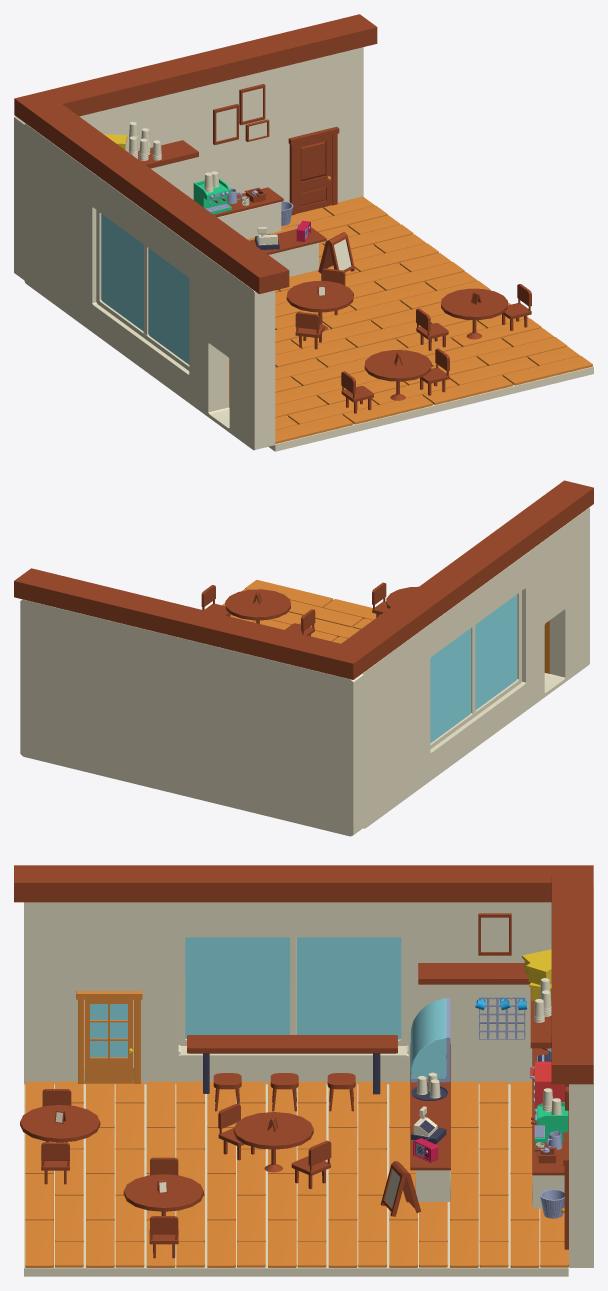
Rendered from SM_Cafe_Scene_v01.fbx.
The picture shows the model from 3 angles, top to bottom: view 1: azimuth 30°, elevation 25°; view 2: azimuth 150°, elevation 25°; view 3: azimuth 270°, elevation 25°; orthographic projection. The views are drawn at different scales.
Visible parts, largest first — view 1: SM_Main_Platform, G_Window_Glass, INT_Bedroom_Door, SM_Barista_Table_001, SM_Round_Table_001, SM_Round_Table, SM_Barista_Table, SM_Round_Table_002, SM_Door_Frame, P_Aframe_Menu, P_Painting, P_Painting_001 (+7 smaller); view 2: SM_Main_Platform, G_Window_Glass, SM_Round_Table; view 3: SM_Main_Platform, G_Window_Glass, SM_Long_Table, SM_Barista_Table, SM_Wall_Shelf, G_Cake_Display_Glass, INT_Main_Door, SM_Round_Table_002, SM_Round_Table, SM_Round_Table_001, G_Main_Door_Glass, SM_Barista_Table_001 (+17 smaller).
Boxes of the visible parts, left/top/right/bottom form: SM_Main_Platform: left=14, top=14, right=593, bottom=451; G_Window_Glass: left=101, top=213, right=189, bottom=364; INT_Bedroom_Door: left=295, top=135, right=331, bottom=213; SM_Barista_Table_001: left=213, top=187, right=283, bottom=239; SM_Round_Table_001: left=364, top=350, right=431, bottom=400; SM_Round_Table: left=441, top=288, right=507, bottom=339; SM_Barista_Table: left=249, top=227, right=326, bottom=276; SM_Round_Table_002: left=286, top=281, right=353, bottom=331; SM_Door_Frame: left=288, top=126, right=339, bottom=215; P_Aframe_Menu: left=318, top=232, right=354, bottom=273; P_Painting: left=239, top=84, right=265, bottom=125; P_Painting_001: left=213, top=104, right=238, bottom=144; SM_Main_Platform: left=14, top=480, right=593, bottom=836; G_Window_Glass: left=430, top=594, right=517, bottom=743; SM_Round_Table: left=225, top=589, right=290, bottom=623; SM_Main_Platform: left=14, top=865, right=593, bottom=1276; G_Window_Glass: left=185, top=937, right=401, bottom=1039; SM_Long_Table: left=187, top=1035, right=397, bottom=1094; SM_Barista_Table: left=410, top=1043, right=450, bottom=1201; SM_Wall_Shelf: left=418, top=963, right=551, bottom=1048; G_Cake_Display_Glass: left=410, top=998, right=446, bottom=1078; INT_Main_Door: left=84, top=999, right=133, bottom=1083; SM_Round_Table_002: left=233, top=1112, right=313, bottom=1172; SM_Round_Table: left=123, top=1174, right=203, bottom=1215; SM_Round_Table_001: left=20, top=1104, right=100, bottom=1142; G_Main_Door_Glass: left=90, top=1004, right=127, bottom=1057; SM_Barista_Table_001: left=532, top=1048, right=568, bottom=1208.
Size of the model in its own units: 43.39 by 21.85 by 53.25.
